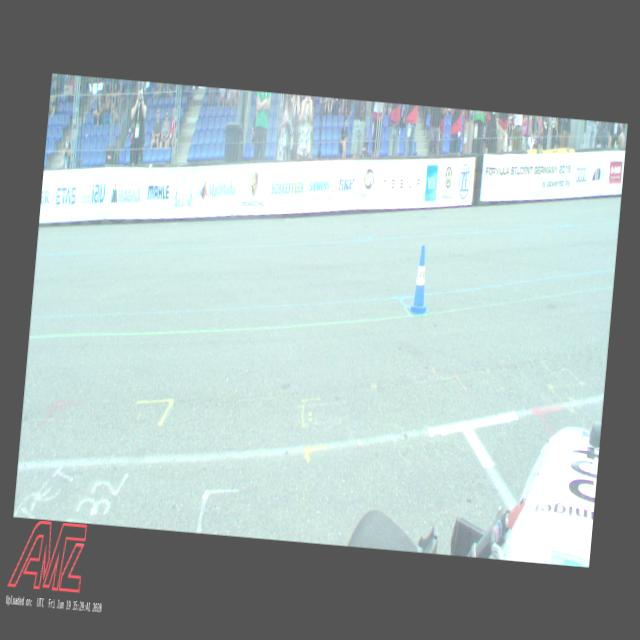blue_cone: (410, 244, 431, 314)
